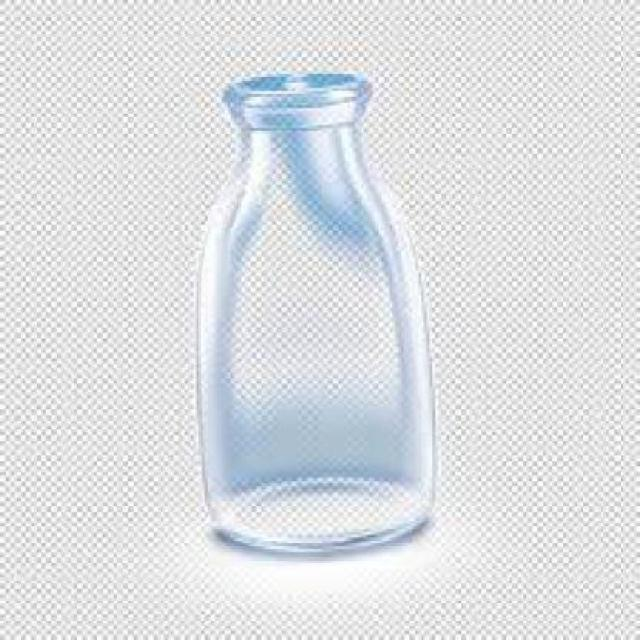glass: (204, 70, 436, 556)
